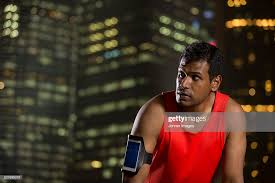Indian_Male: (173, 38, 221, 108)
